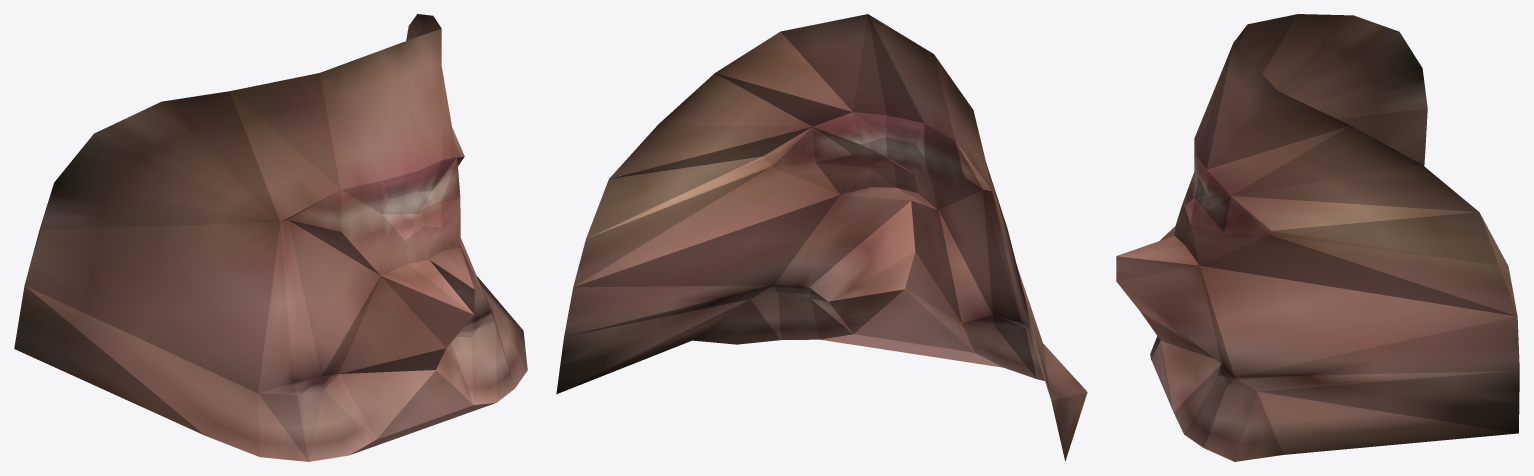
File: fake_5787.obj
The picture shows the model from 3 angles, left to right: view 1: azimuth 30°, elevation 25°; view 2: azimuth 150°, elevation 25°; view 3: azimuth 270°, elevation 25°; orthographic projection.
Size of the model in its own units: 113 by 85 by 87.19.
